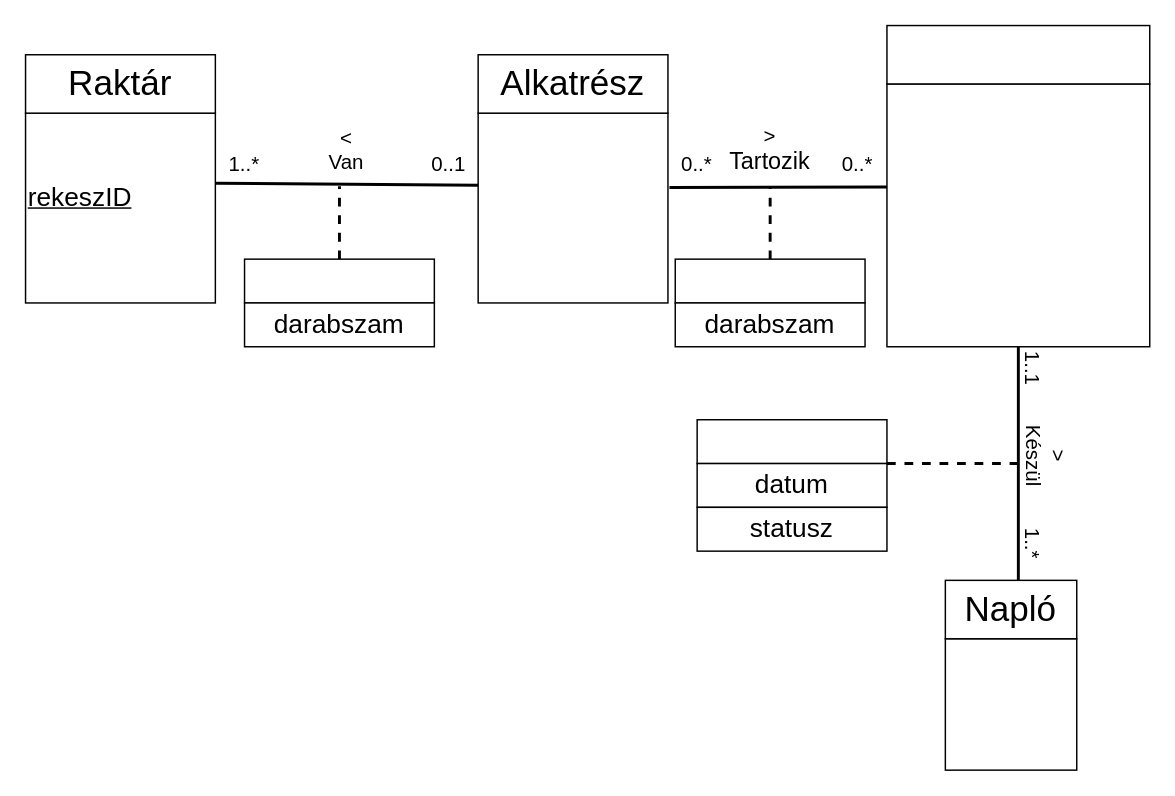
This 1175x796 diagram has some shape labels left out. Each missing label, with the centre of its shape:
id: [1010,703]
id nev ar maxdb: [572,207]
id nev helyszin megrendelo leiras statusz munkaido ar: [1017,214]
Projekt: [1017,54]
